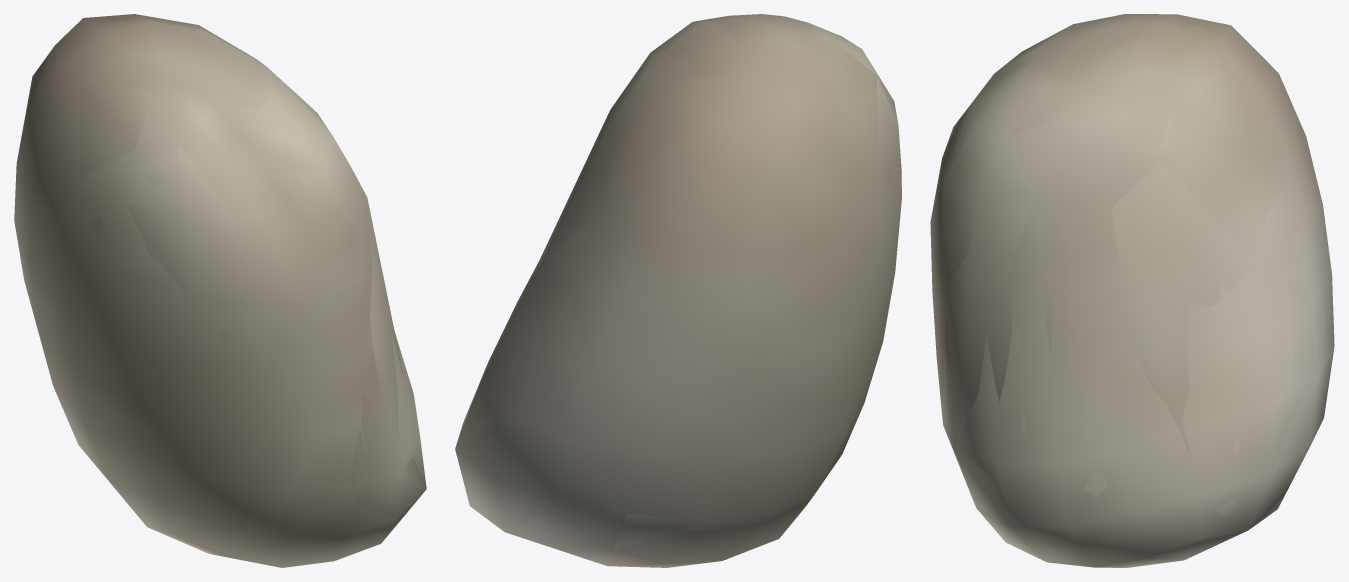
The model's file is R carpale primum.fbx.
3 views of the same model, side by side, from view 1: azimuth 30°, elevation 25°; view 2: azimuth 150°, elevation 25°; view 3: azimuth 270°, elevation 25° (orthographic). The views are drawn at different scales.
Visible parts, largest first — view 1: R carpale primum, R carpale primum low, R carpale primum high; view 2: R carpale primum, R carpale primum low, R carpale primum high; view 3: R carpale primum, R carpale primum low, R carpale primum high.
Boxes of the visible parts, bbox=[...] form: R carpale primum: bbox=[14, 14, 426, 567]; R carpale primum low: bbox=[72, 15, 426, 555]; R carpale primum high: bbox=[76, 21, 409, 542]; R carpale primum: bbox=[455, 14, 901, 567]; R carpale primum low: bbox=[455, 14, 901, 549]; R carpale primum high: bbox=[470, 15, 891, 558]; R carpale primum: bbox=[930, 14, 1334, 567]; R carpale primum low: bbox=[943, 15, 1323, 567]; R carpale primum high: bbox=[943, 24, 1324, 550].
Size of the model in its own units: 0.3019 by 0.4371 by 0.3328.
1 material, 1 textured.
